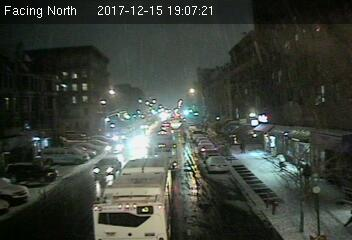bus: (92, 159, 174, 240)
car: (90, 157, 120, 175), (205, 156, 230, 172)
